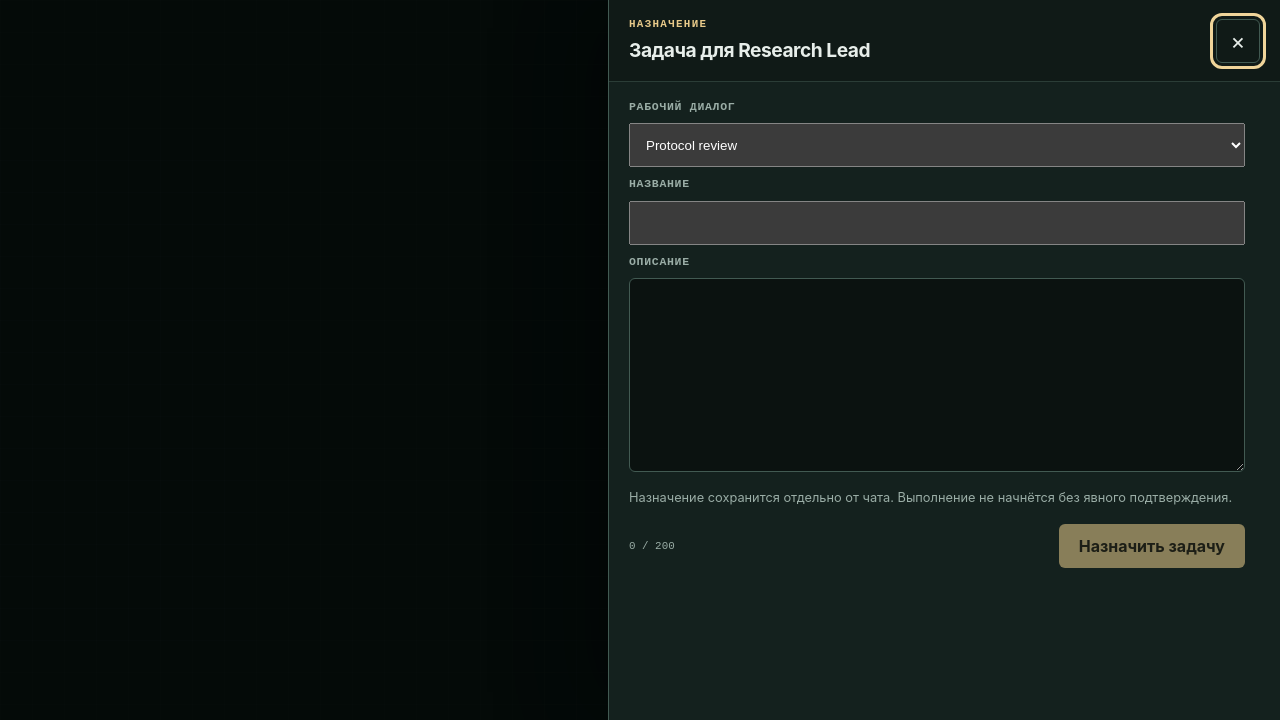
Test case: TaskDrawer › replaces the completed composer with a compact assignment summary and immediate approval actions
This screenshot has width=1280, height=720.
Type "Проверить новый контракт" into the field labelled "Название" at (937, 223), box [629,201,1245,245]
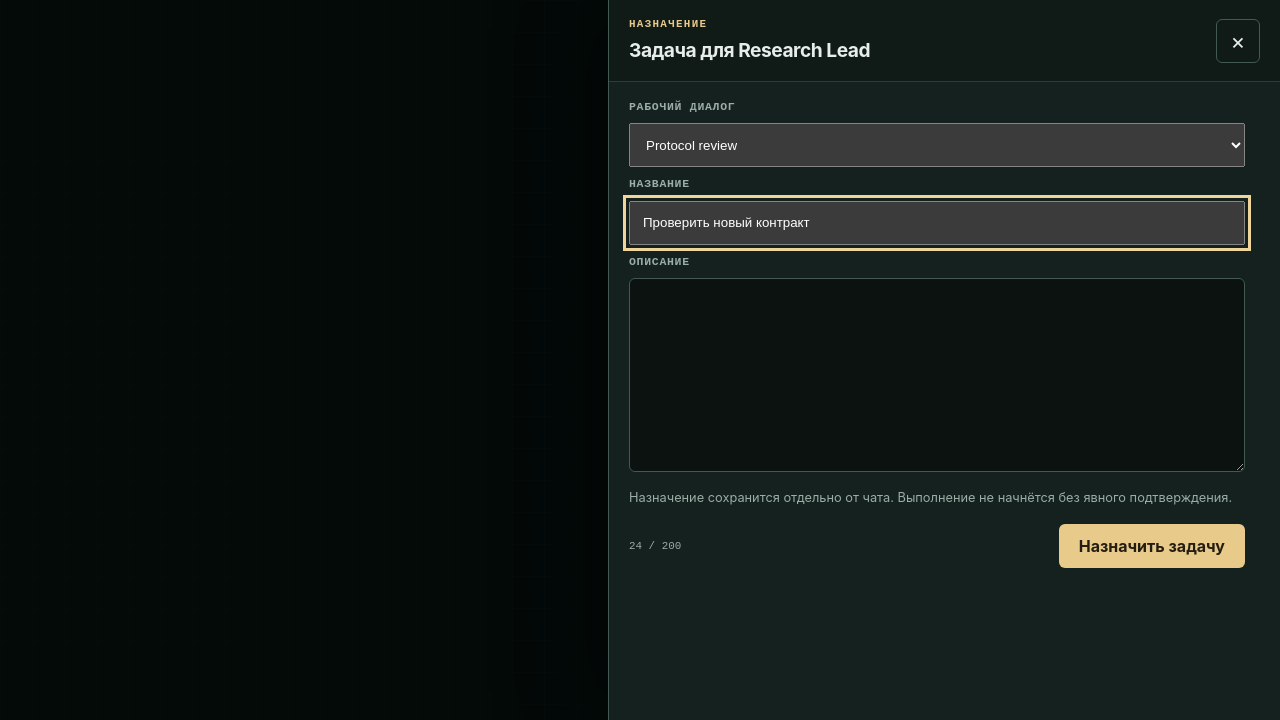
Type "Сохранить ссылки на источники." into the text box labelled "Описание" at (937, 375), box [629,278,1245,472]
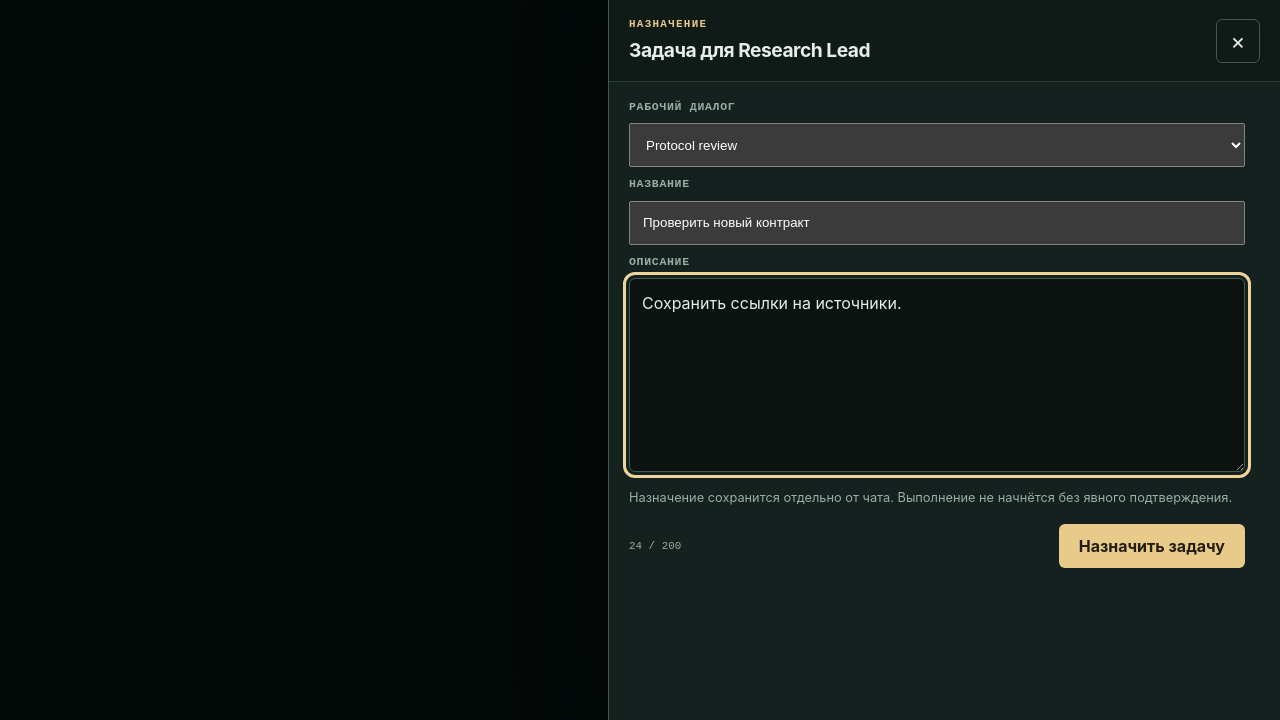
Click the button "Назначить задачу" at (1152, 546), box [1059,524,1245,568]
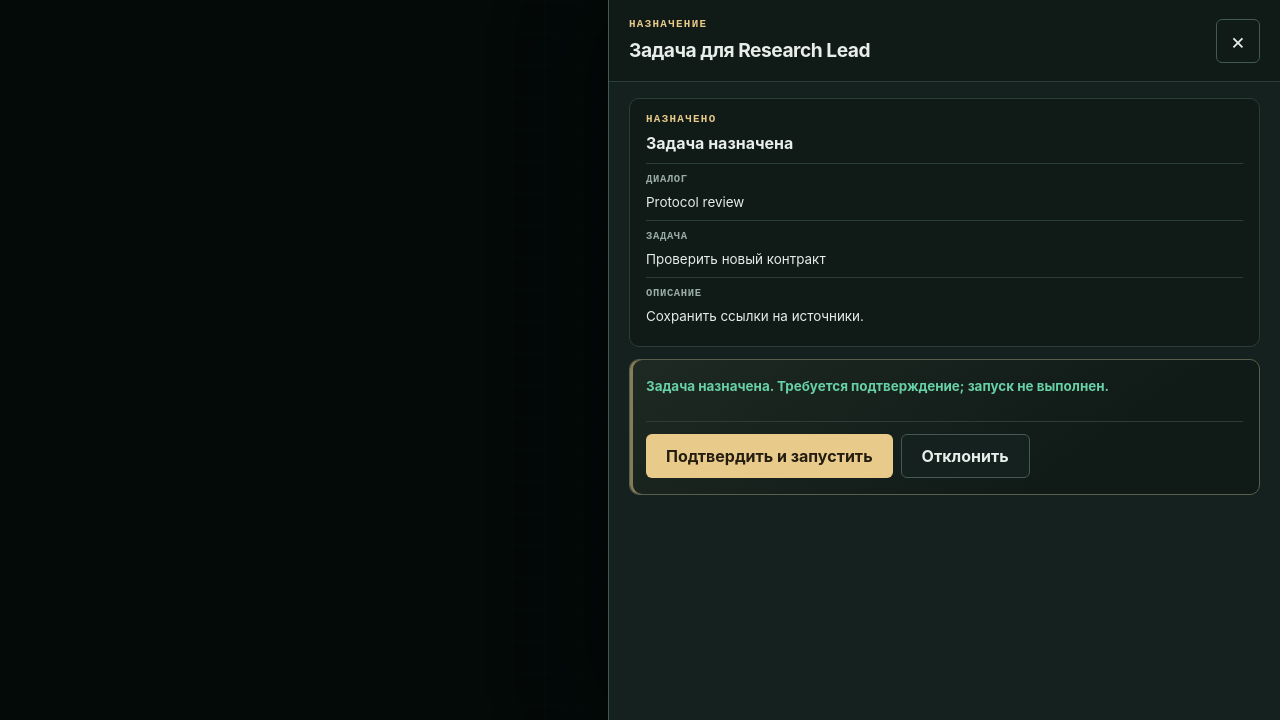
Expected: the heading "Задача назначена" is shown, [646,133,793,153]
Expected: the text "Protocol review" is shown, [646,194,744,210]
Expected: the text "Проверить новый контракт" is shown, [646,251,826,267]
